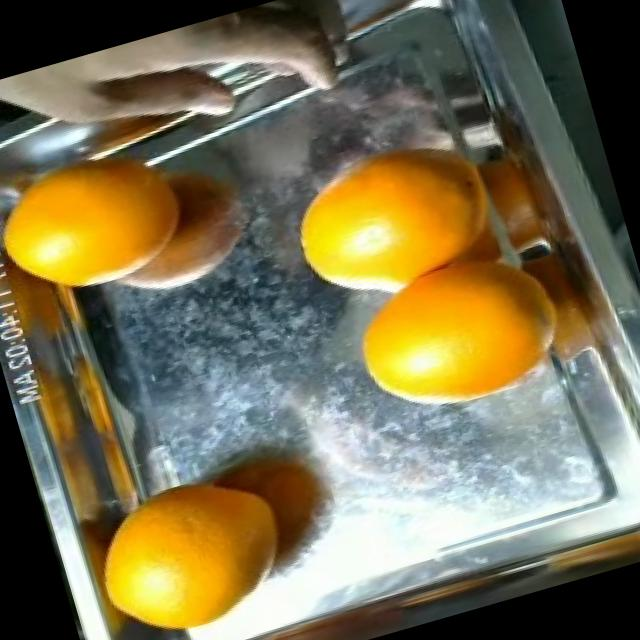Fruit: (65, 446, 315, 640), (327, 250, 541, 440), (266, 141, 457, 326)
